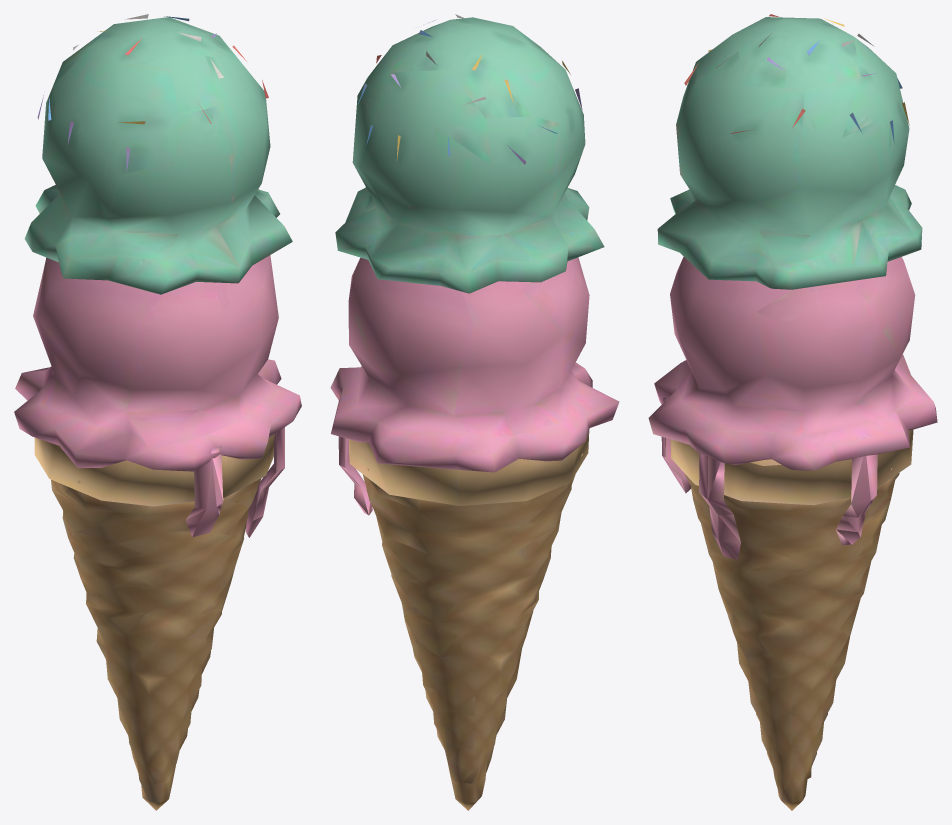
Rendered from food-ice-cream-cone.glb.
3 views of the same model, side by side, from view 1: azimuth 30°, elevation 25°; view 2: azimuth 150°, elevation 25°; view 3: azimuth 270°, elevation 25° (orthographic).
Visible parts, largest first — view 1: ice-cream-cone_body; view 2: ice-cream-cone_body; view 3: ice-cream-cone_body.
Part boxes in pixels (<box>): ice-cream-cone_body: <box>14,14,301,810</box>; ice-cream-cone_body: <box>330,14,619,810</box>; ice-cream-cone_body: <box>648,14,937,810</box>.
Size of the model in its own units: 1.32 by 4 by 1.34.
Materials: 1 (1 with a texture image).
